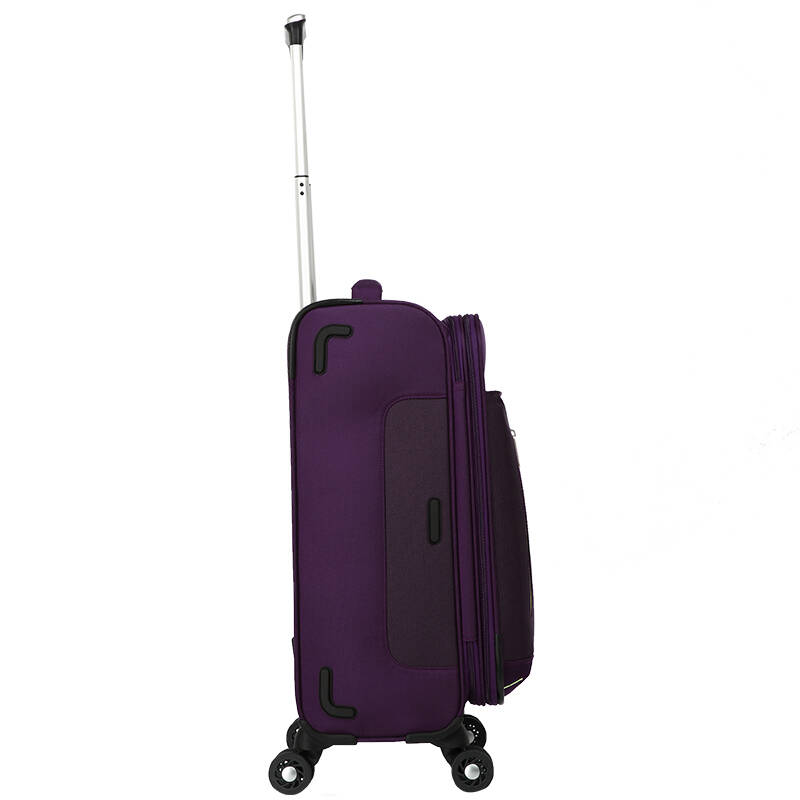luggage: (266, 11, 537, 794)
